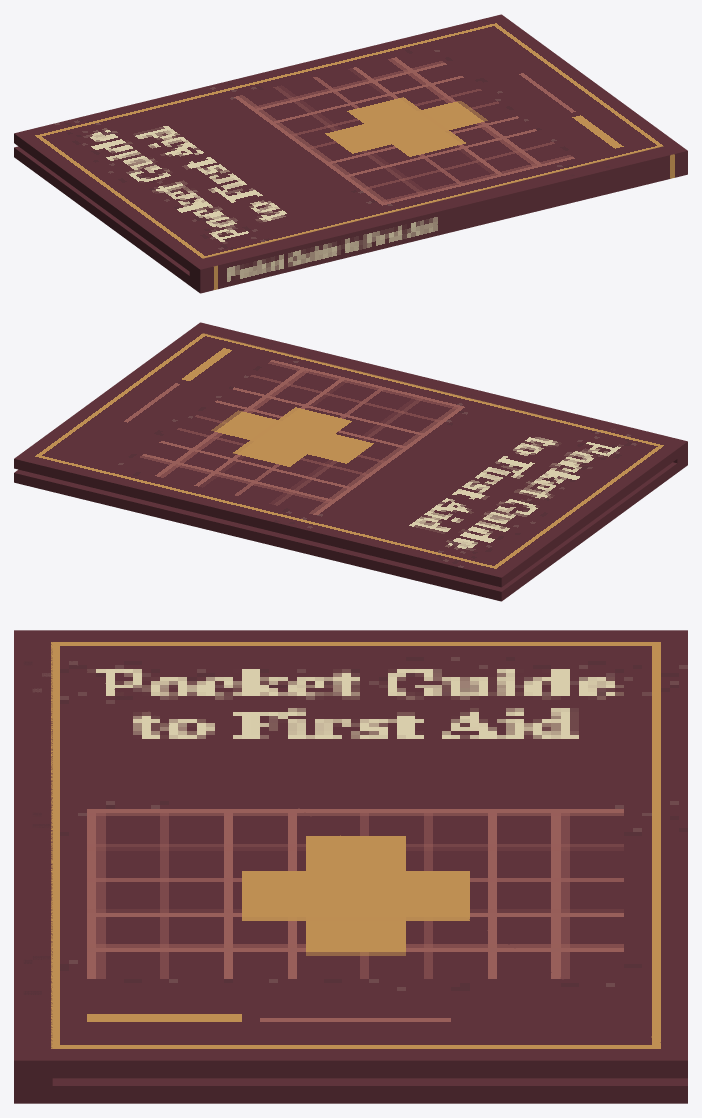
The model's file is pocket_firstaid.glb.
3 views of the same model, one above another, from view 1: azimuth 30°, elevation 25°; view 2: azimuth 150°, elevation 25°; view 3: azimuth 270°, elevation 25° (orthographic). The views are drawn at different scales.
Parts seen in each view (by area): view 1: block_front, block_spine, block_back; view 2: block_front, block_back, block_spine; view 3: block_front, block_back, block_spine.
Boxes of the visible parts, box(x1,y1,x2,y2) form: block_front: box(14, 14, 684, 277); block_spine: box(189, 143, 687, 293); block_back: box(14, 146, 197, 291); block_front: box(14, 324, 685, 587); block_back: box(14, 458, 685, 601); block_spine: box(190, 322, 687, 466); block_front: box(23, 630, 687, 1078); block_back: box(23, 1078, 687, 1103); block_spine: box(14, 630, 52, 1103).
Size of the model in its own units: 0.1556 by 0.00726 by 0.103.
1 material, 1 textured.
